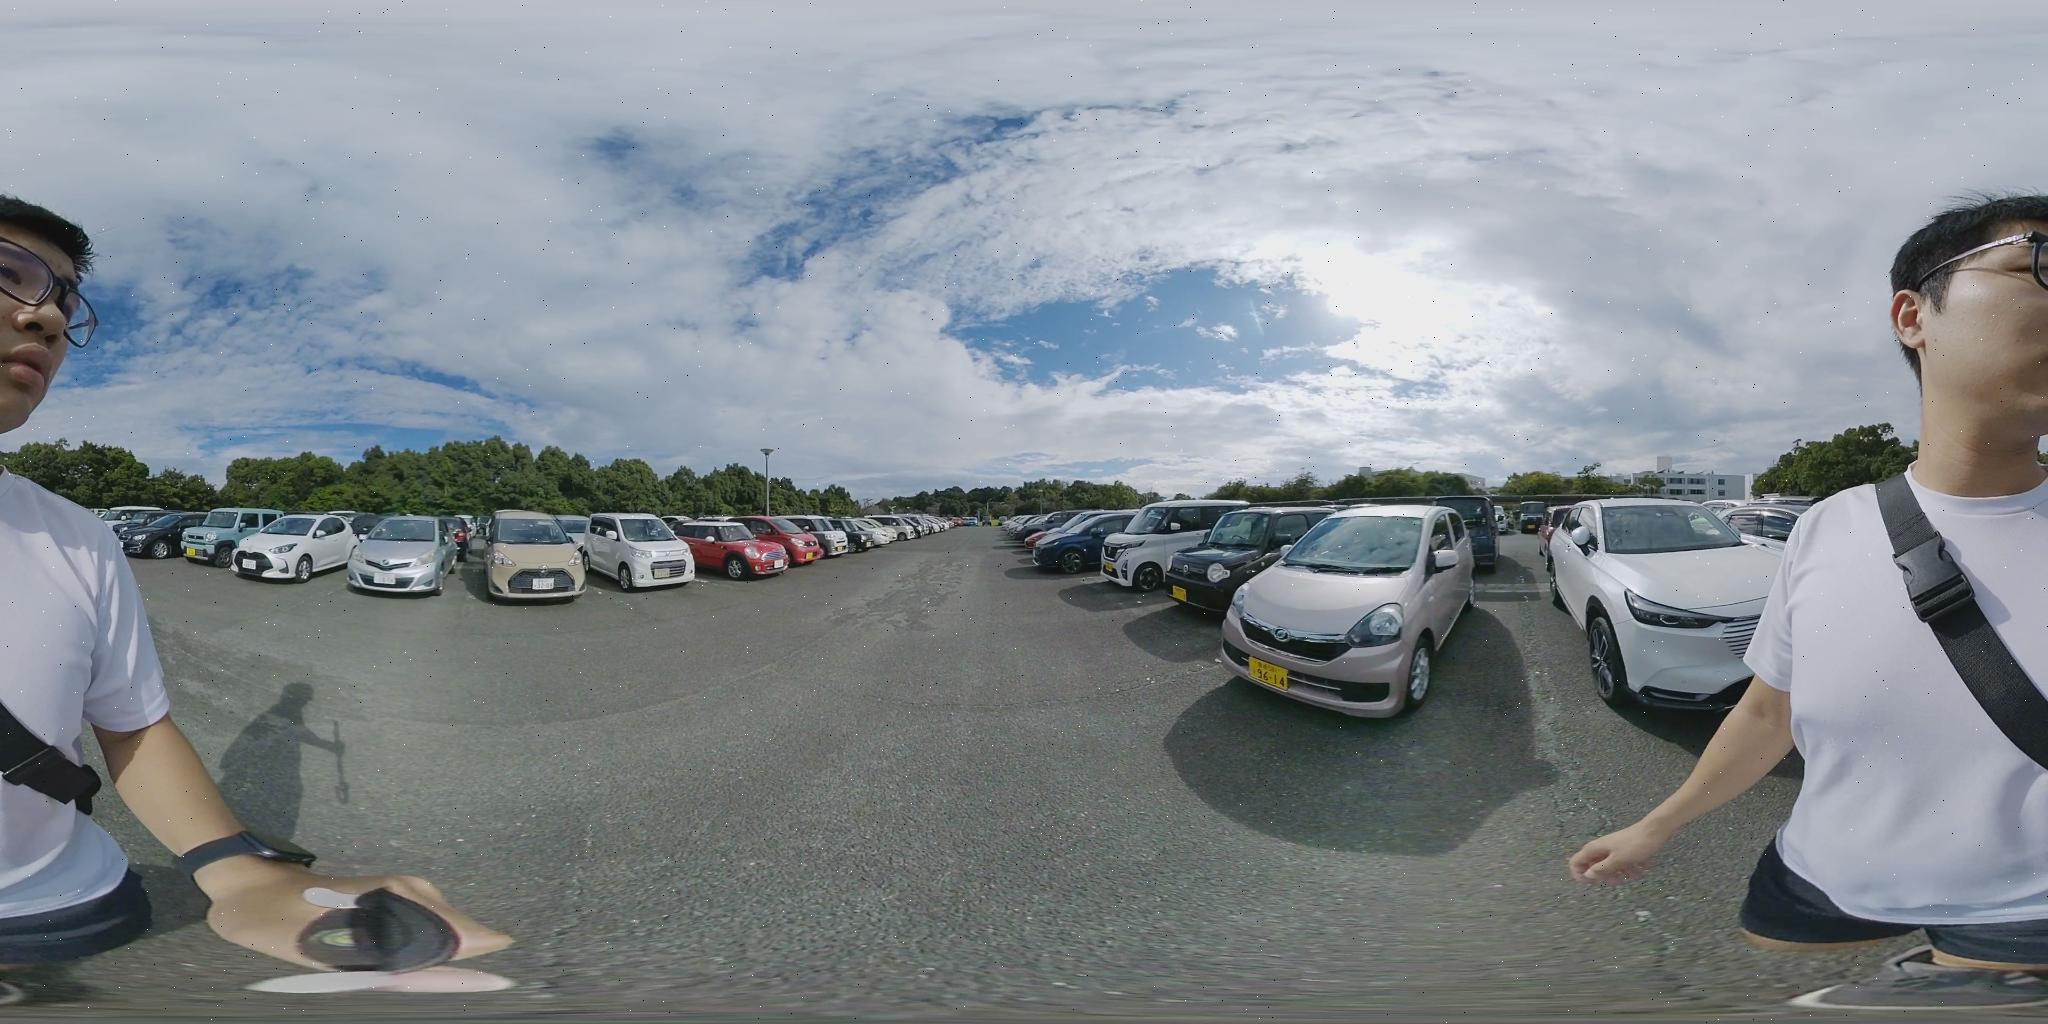car: (1216, 500, 1488, 714), (1540, 502, 1785, 713), (1170, 511, 1344, 623), (1095, 500, 1268, 588), (479, 516, 593, 602), (230, 513, 376, 580), (345, 517, 457, 596), (577, 515, 695, 589), (670, 520, 802, 575), (1028, 511, 1135, 573), (172, 508, 286, 562), (115, 512, 213, 558), (759, 516, 832, 562), (802, 519, 869, 555), (1728, 513, 1800, 545), (850, 517, 916, 549), (835, 519, 888, 551), (870, 517, 927, 545)
